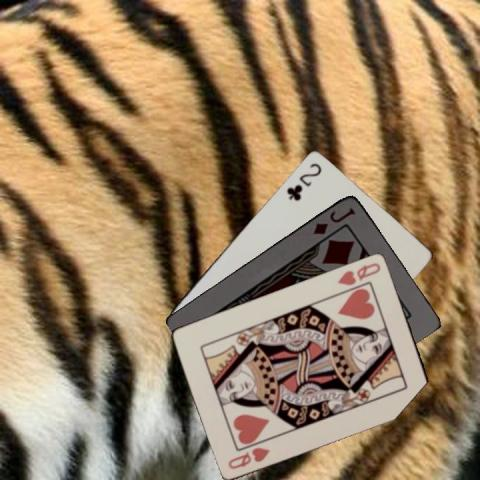2c: (284, 159, 324, 202)
Jd: (310, 204, 357, 236)
Qh: (335, 259, 382, 287), (225, 444, 272, 470)
